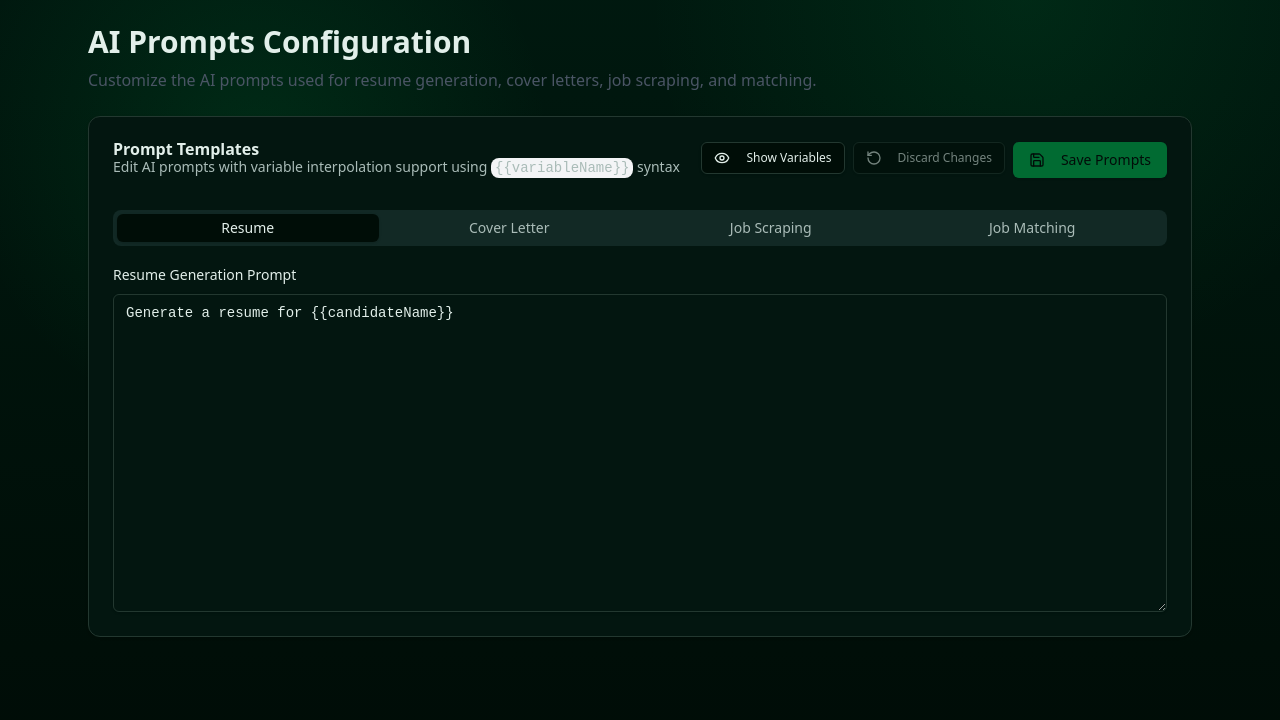
it: AIPromptsPage › shows variable preview when button is clicked
Click the button "Show Variables" at (773, 158), box left=702, top=142, right=845, bottom=174
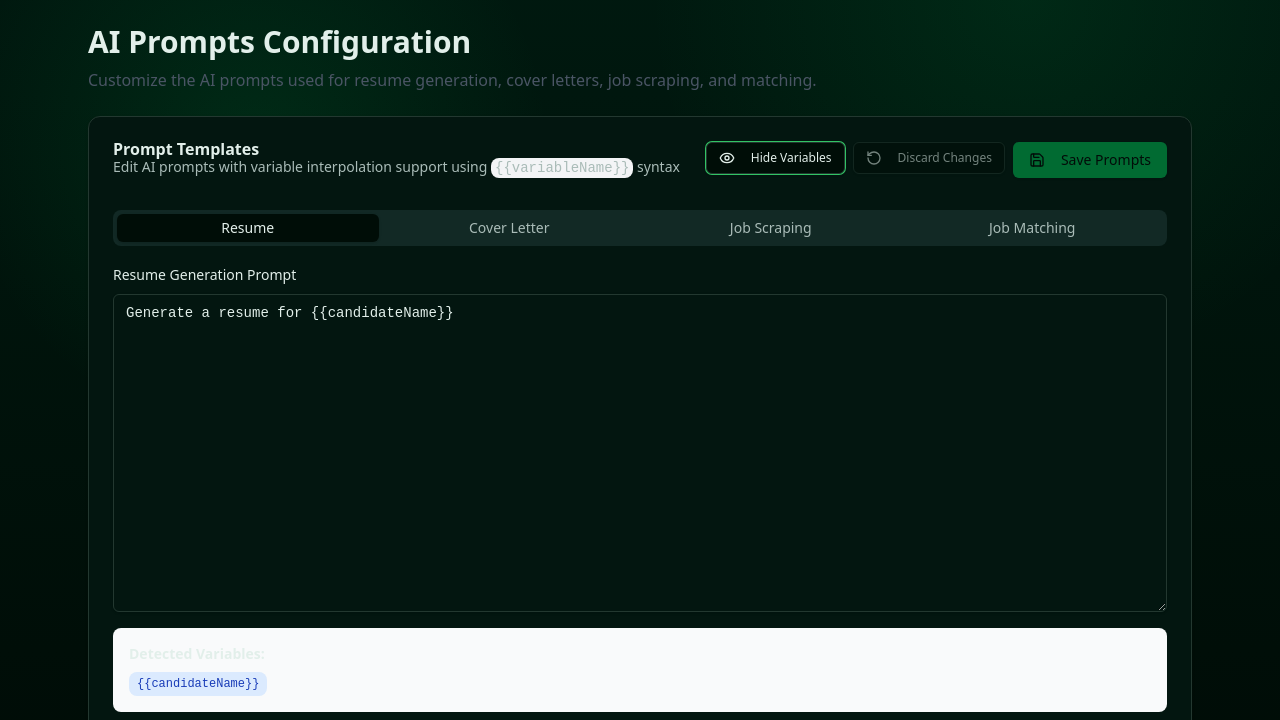
expect the text "{{candidateName}}" is shown: met, box left=129, top=672, right=267, bottom=696
